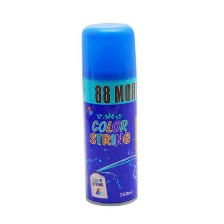aerosol_cans: (77, 16, 142, 209)
